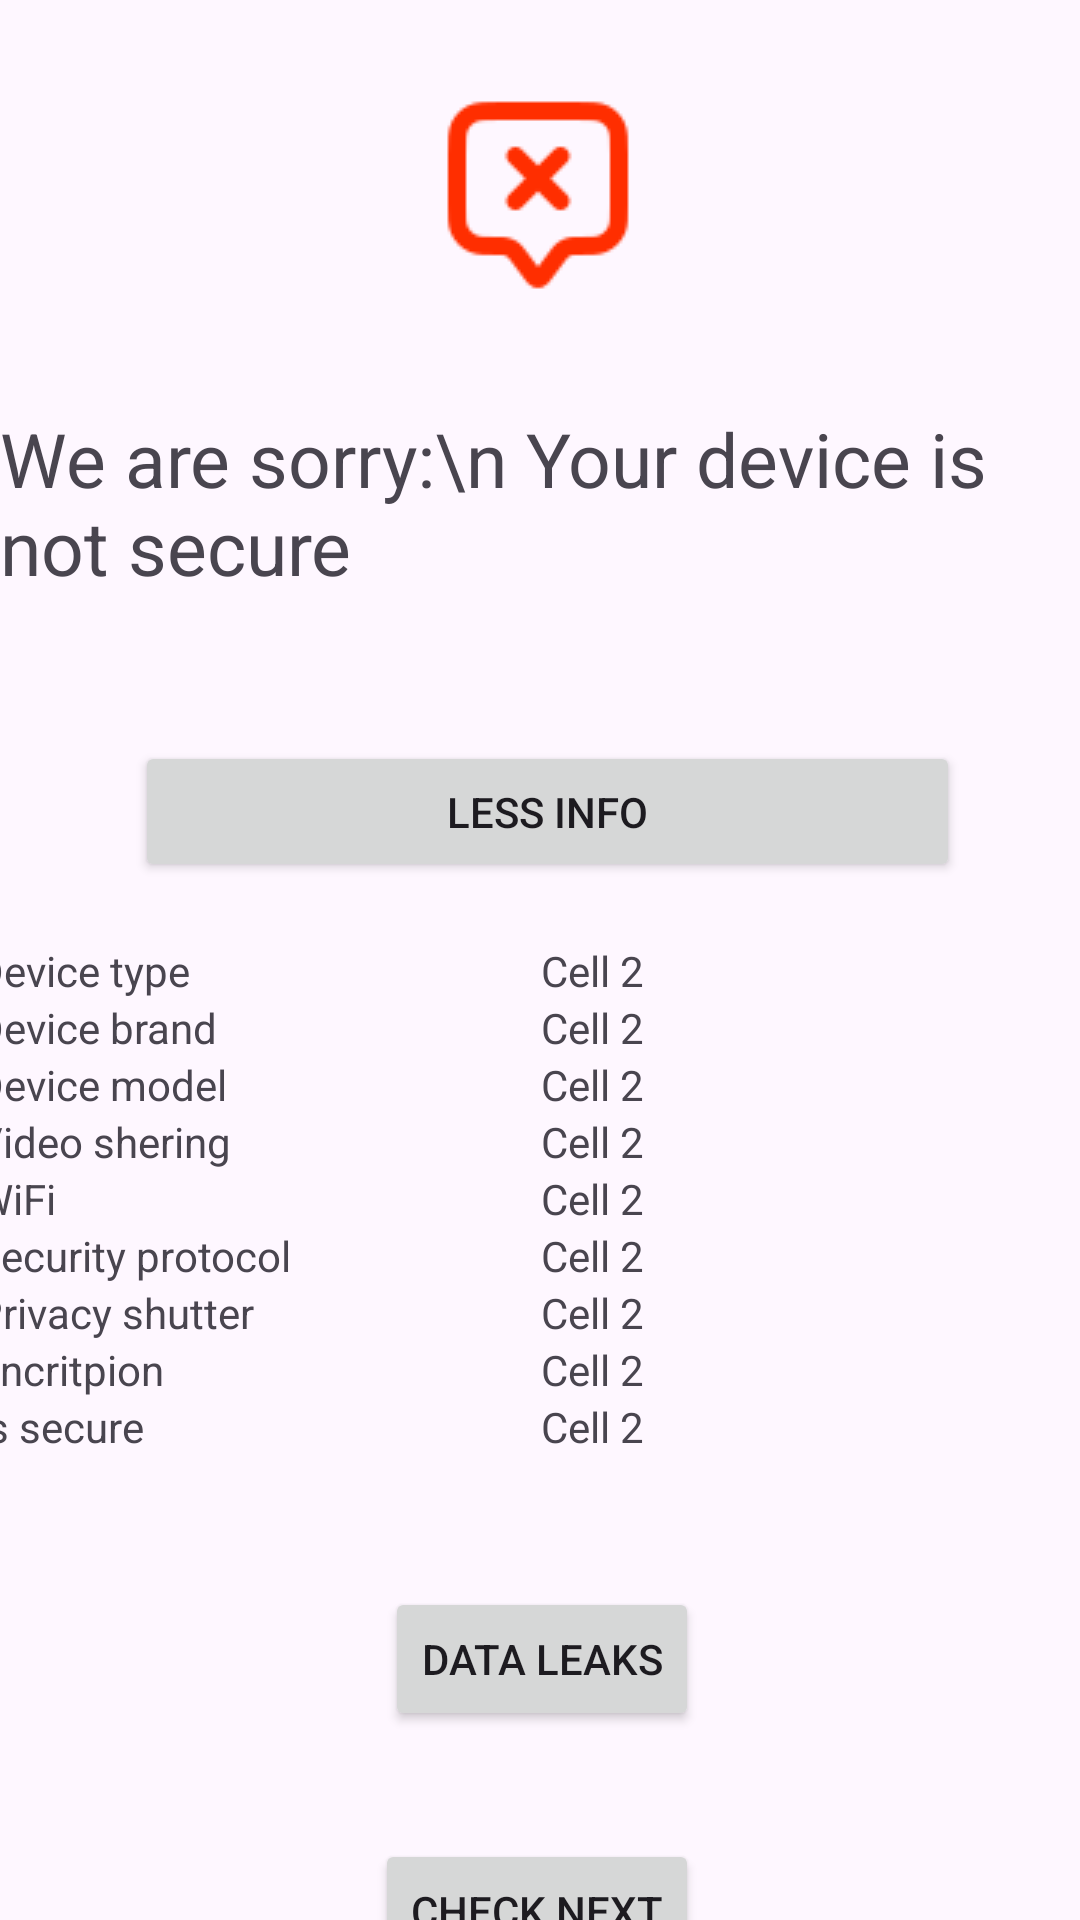

Where icons sit on this 1080 x 1920 app screen, as bbox(x1, y1, x2, y2):
annotation: bbox(447, 101, 629, 289)
